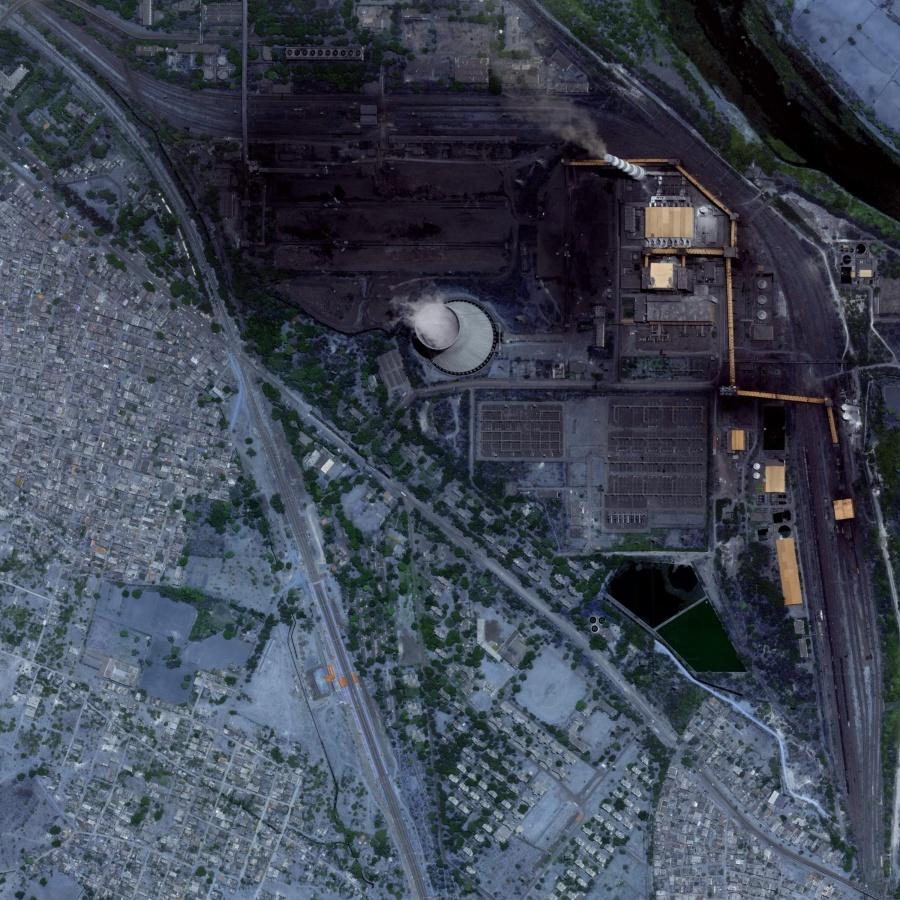PowerPlant: (213, 52, 706, 407)
